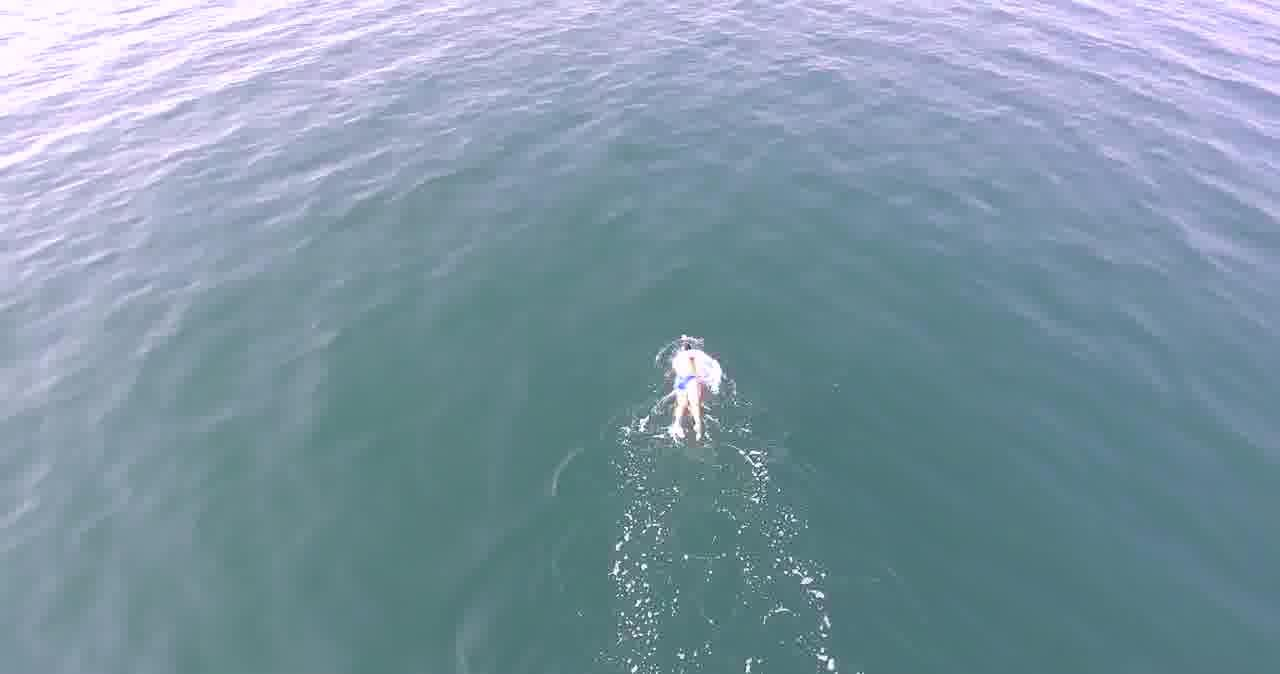swimmer: (659, 334, 716, 443)
